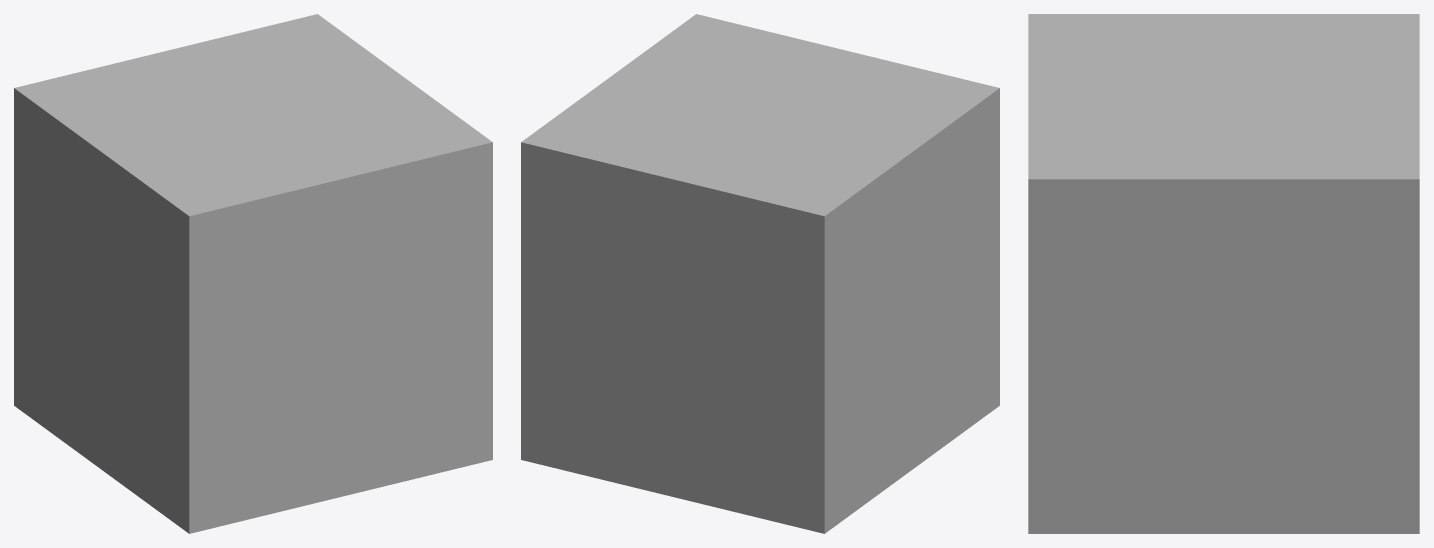
File: particlePop.obj
3 views of the same model, side by side, from view 1: azimuth 30°, elevation 25°; view 2: azimuth 150°, elevation 25°; view 3: azimuth 270°, elevation 25° (orthographic). The views are drawn at different scales.
Visible parts, largest first — view 1: Cube; view 2: Cube; view 3: Cube.
Boxes of the visible parts, bbox=[...] form: Cube: bbox=[14, 14, 492, 533]; Cube: bbox=[521, 14, 999, 533]; Cube: bbox=[1028, 14, 1419, 533].
Bounding box in the file's own units: 2 × 2 × 2.
Materials: 2 (2 with a texture image).
